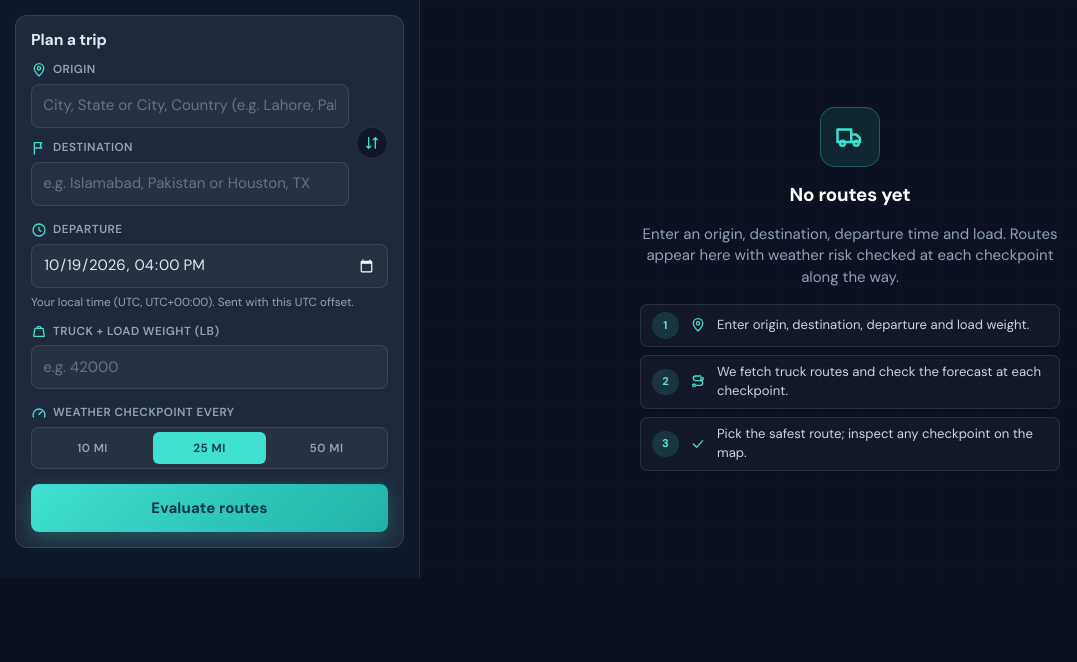
Test: RoutePlanner › handles a response without routes
This screenshot has width=1077, height=662.
Step 1. Type "Waco, TX" into the dropdown labelled "Origin" → (190, 106), box top-left (31, 84), bottom-right (348, 128)
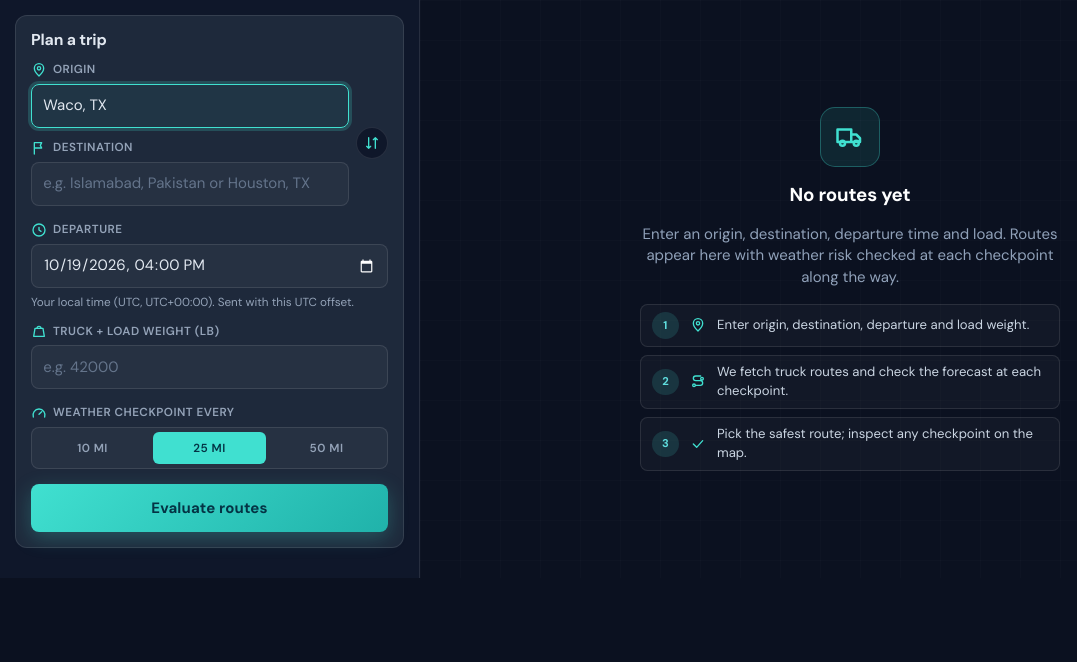
Step 2. Type "Temple, TX" into the dropdown labelled "Destination" → (190, 184), box top-left (31, 162), bottom-right (348, 206)
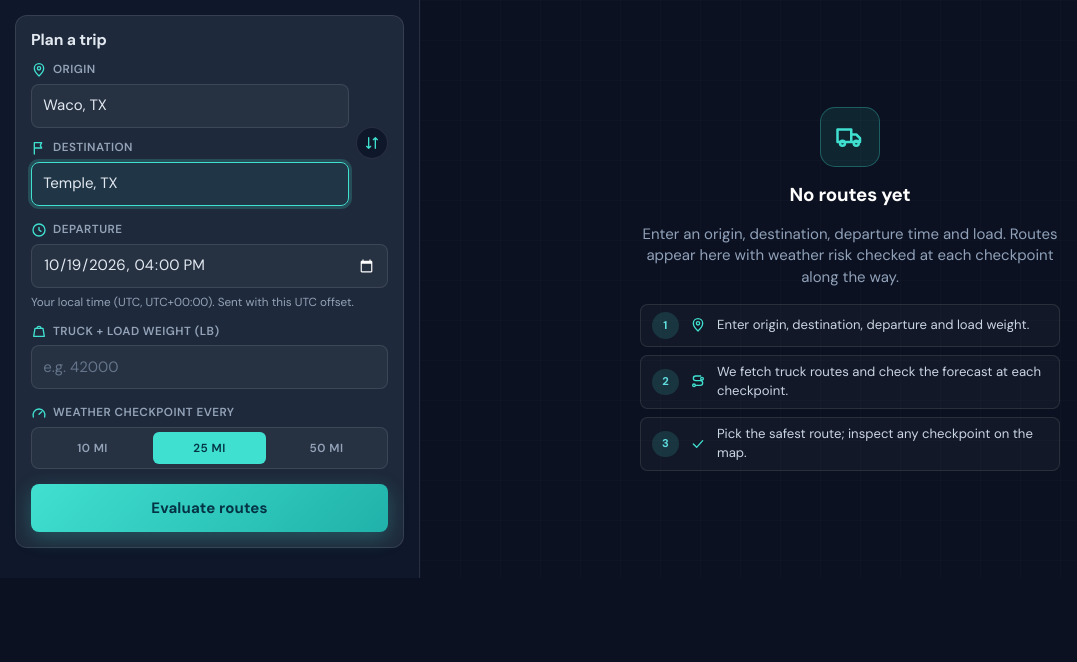
Step 3. Replace the text in the field labelled "Departure" with "2026-10-19T08:00" → (210, 266), box top-left (31, 244), bottom-right (388, 288)
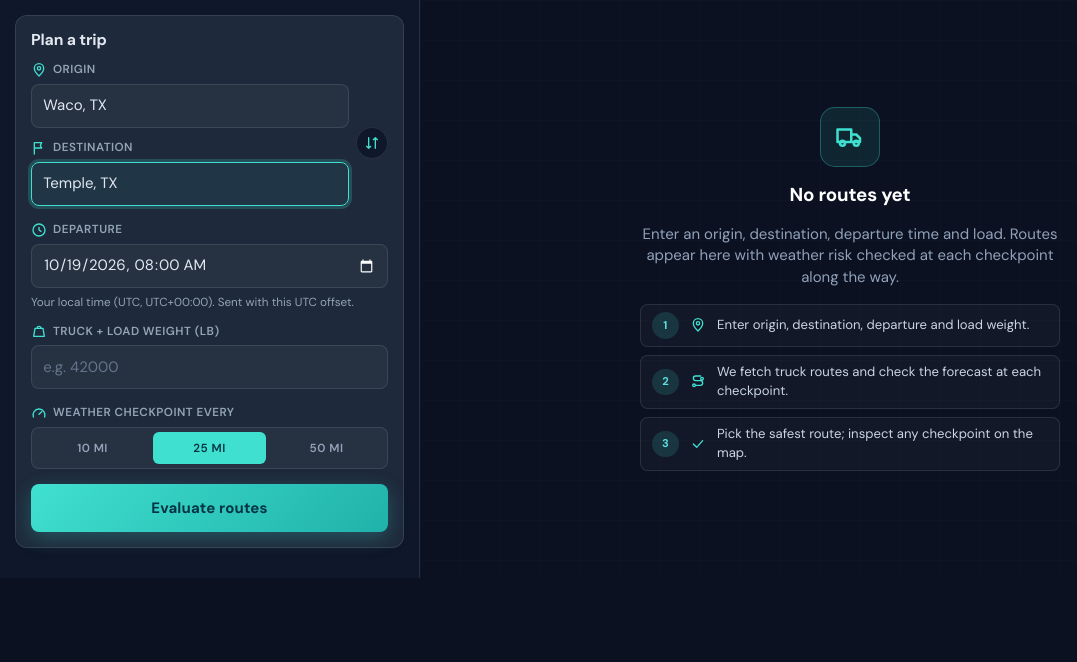
Step 4. Type "42000" into the number field labelled "Truck + load weight (lb)" → (210, 368), box top-left (31, 346), bottom-right (388, 390)
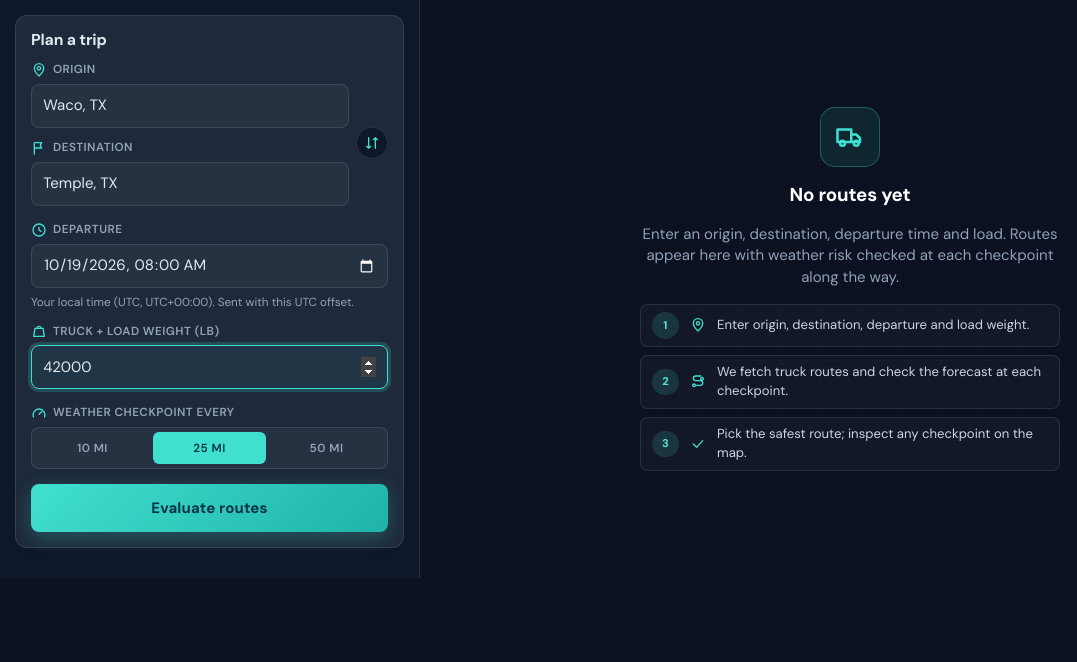
Step 5. Click the button "Evaluate routes" → (210, 508), box top-left (31, 484), bottom-right (388, 532)
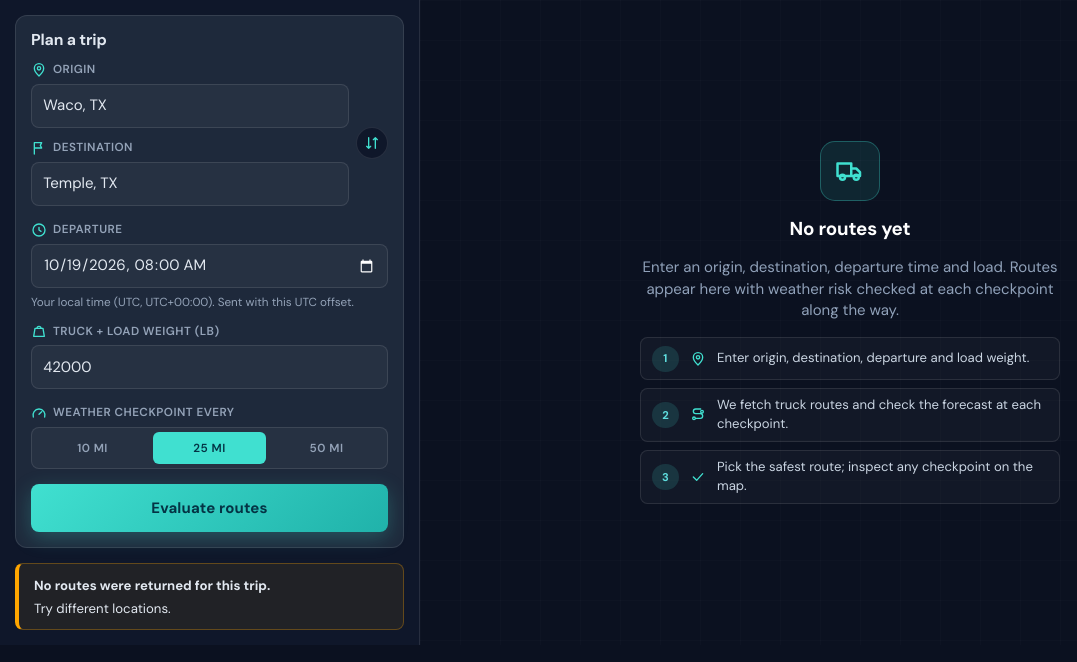
Check: the text "No routes were returned for this trip." is shown, box top-left (34, 577), bottom-right (270, 594)
